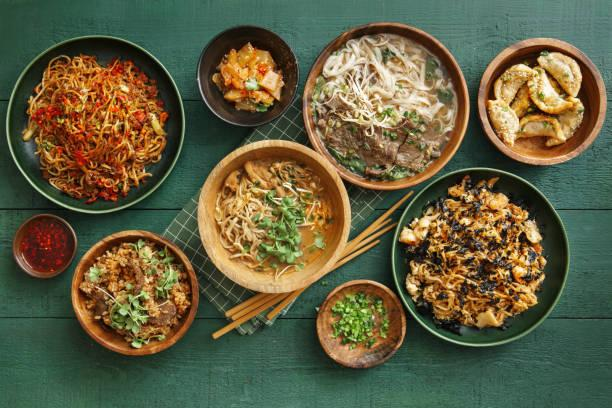Braised Crucian Carp: (6, 33, 184, 212), (392, 167, 566, 347), (300, 23, 464, 190), (196, 139, 348, 292), (475, 37, 604, 166), (68, 230, 196, 354)
